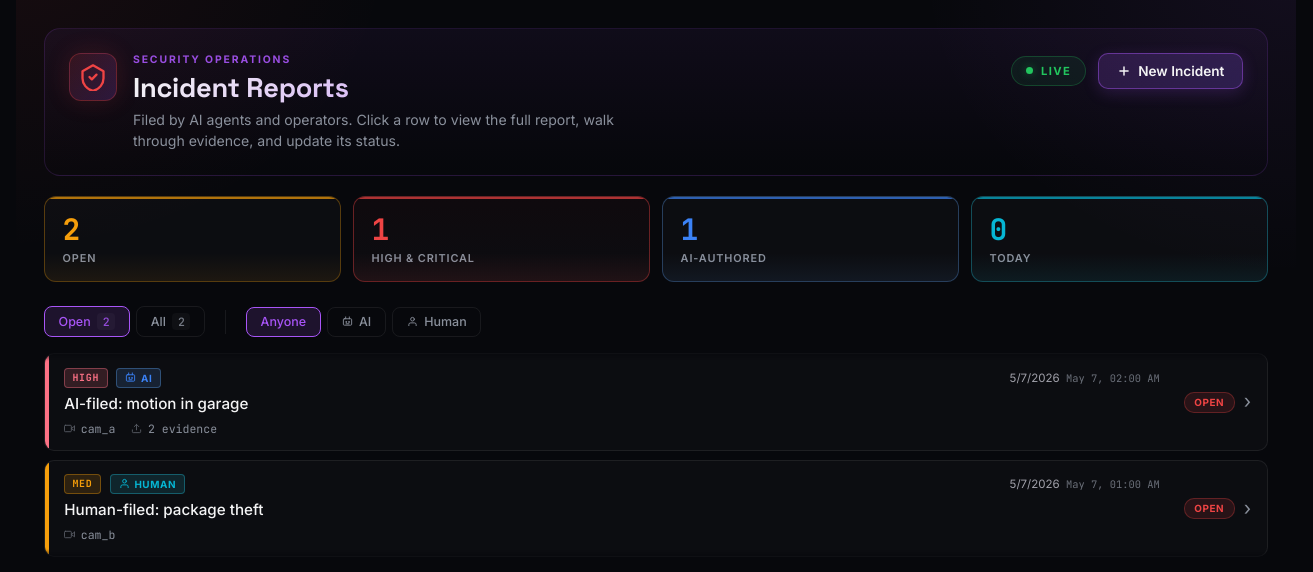
Test case: IncidentsPage › source filter "AI" hides human-filed rows
Expected: the text "Human-filed: package theft" is shown, left=64, top=500, right=263, bottom=519
What coordinates should you click on to do the following:
click the button "AI"
I would click on:
 (356, 322)
Its box is left=327, top=307, right=386, bottom=337.
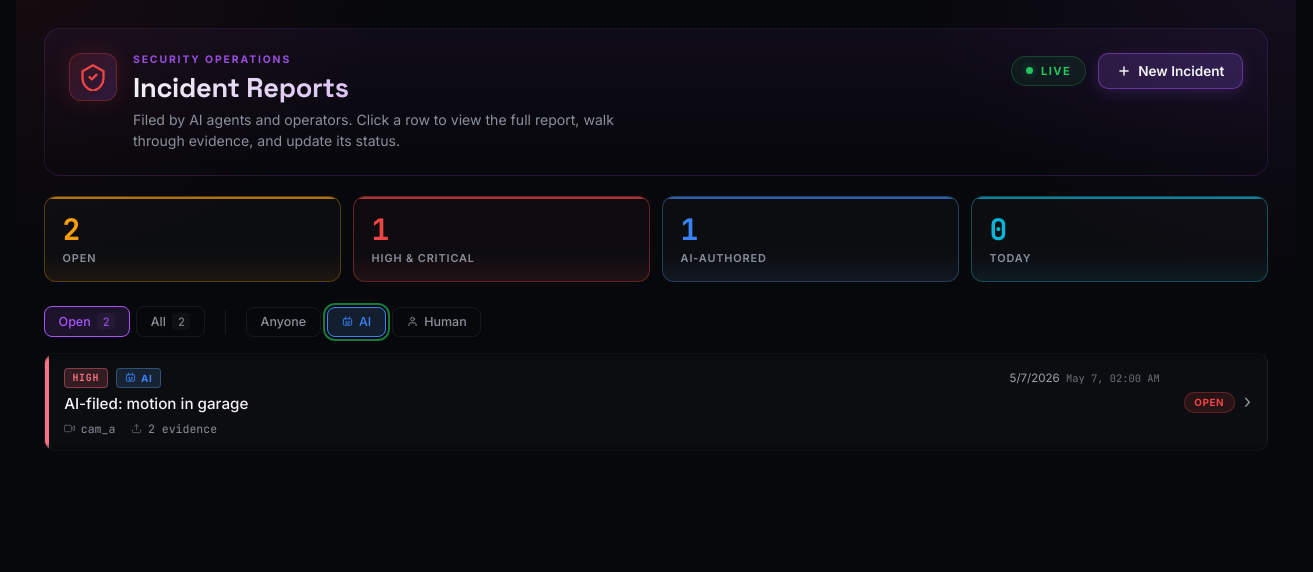
Expected: the text "AI-filed: motion in garage" is shown, left=64, top=394, right=248, bottom=413
Expected: the button "Human-filed: package theft" is gone
